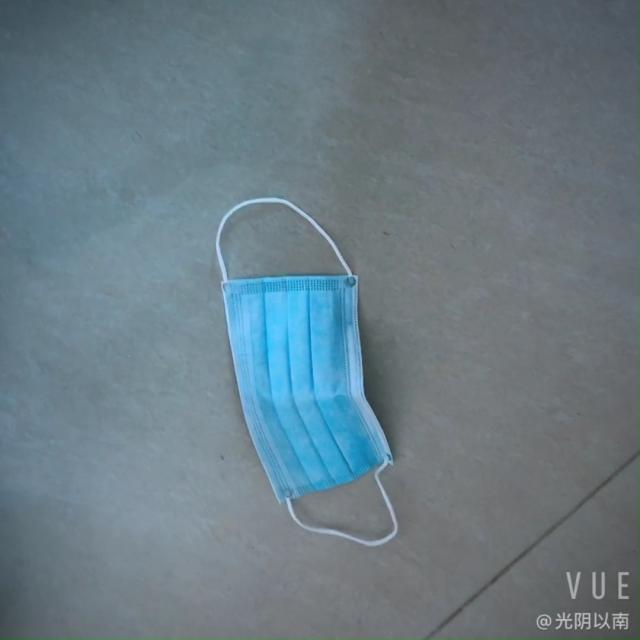face mask: (210, 196, 393, 538)
